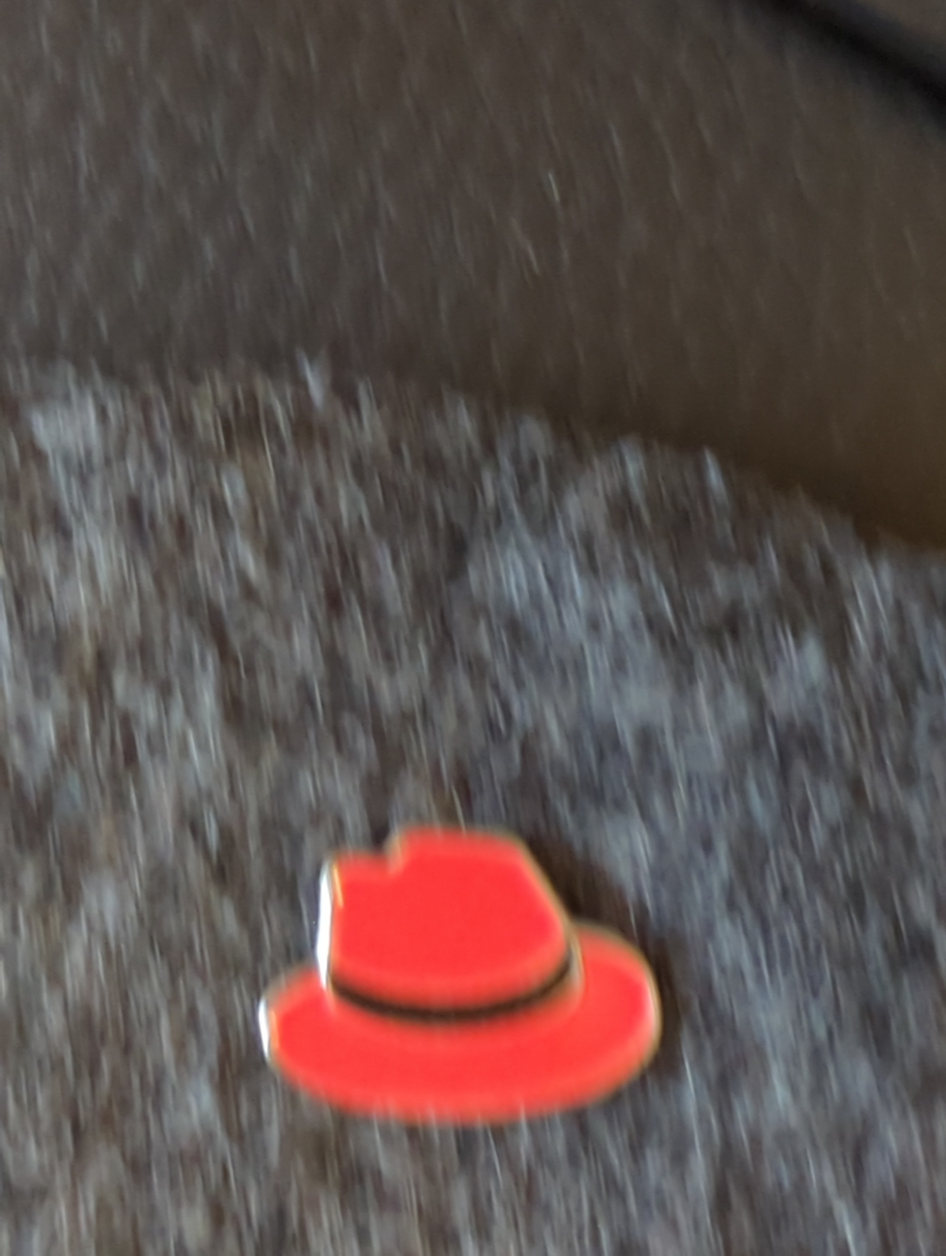Red-Hat: (175, 767, 760, 1169)
